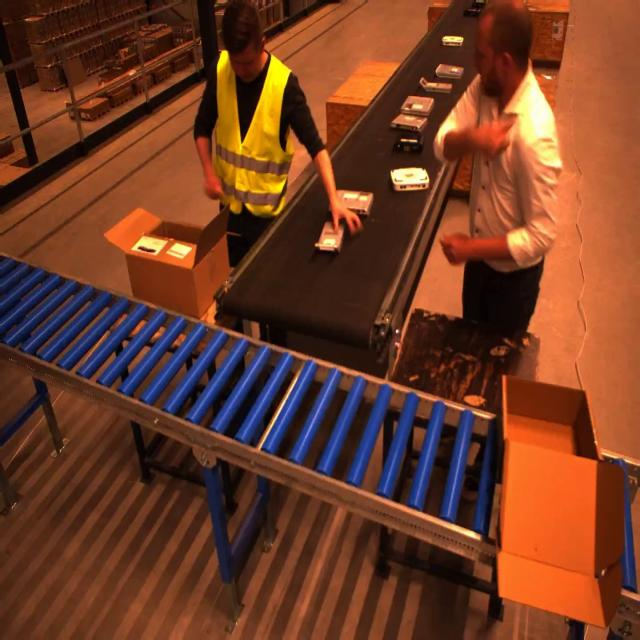box: (493, 376, 628, 630), (116, 198, 251, 315)
product: (307, 192, 362, 265), (384, 162, 437, 215), (393, 111, 434, 166), (412, 70, 455, 105), (430, 28, 471, 60)
